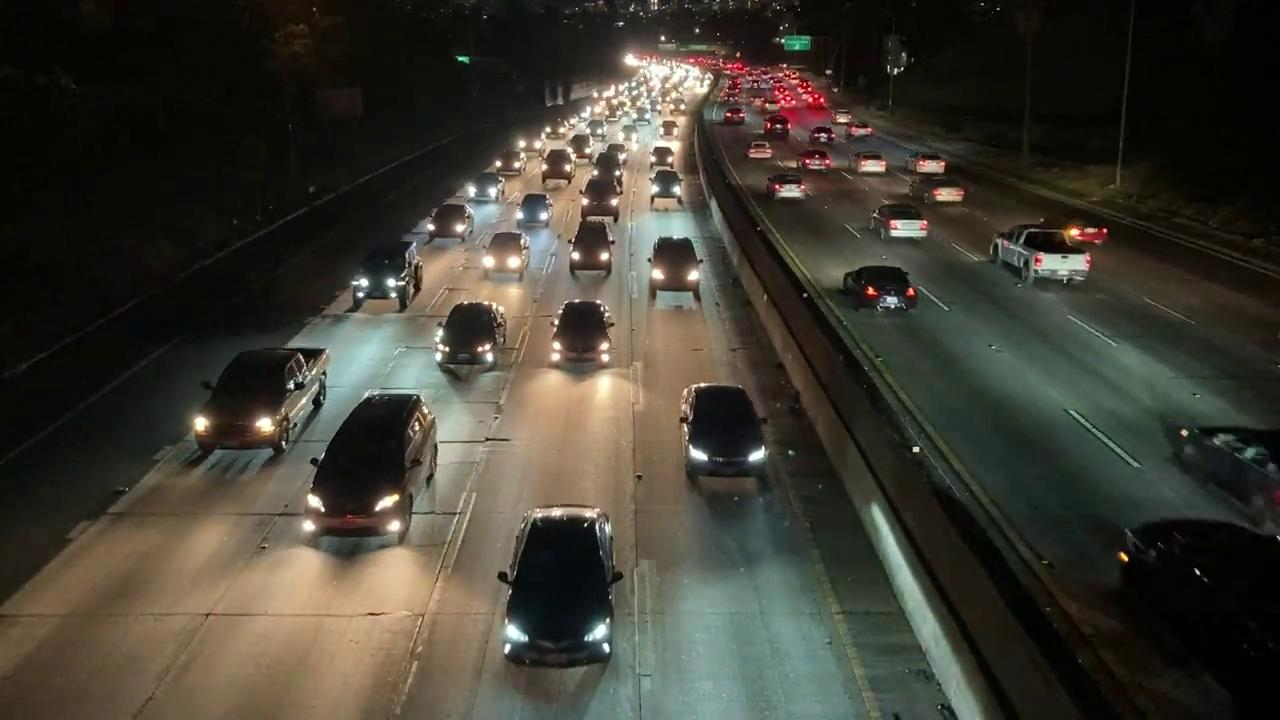car: (1107, 505, 1280, 711), (481, 492, 639, 662), (192, 349, 329, 446), (672, 375, 780, 481), (1185, 415, 1266, 541), (988, 225, 1097, 288), (345, 238, 426, 310), (539, 293, 614, 369), (435, 296, 506, 372), (639, 228, 707, 304), (562, 219, 623, 276), (847, 269, 919, 314), (481, 228, 528, 279), (512, 184, 565, 226), (426, 200, 475, 245), (578, 178, 626, 221), (871, 205, 929, 240), (539, 147, 582, 186), (583, 150, 634, 181), (470, 166, 504, 207), (488, 146, 530, 178), (645, 170, 686, 201), (769, 172, 811, 202), (792, 144, 833, 172), (848, 149, 892, 174), (926, 179, 969, 203), (760, 115, 798, 141), (565, 131, 595, 161), (905, 154, 945, 176), (845, 116, 879, 141), (648, 144, 677, 171), (616, 123, 642, 147), (826, 104, 851, 127), (806, 121, 833, 142), (723, 107, 748, 125), (747, 142, 772, 159), (660, 119, 684, 136)
